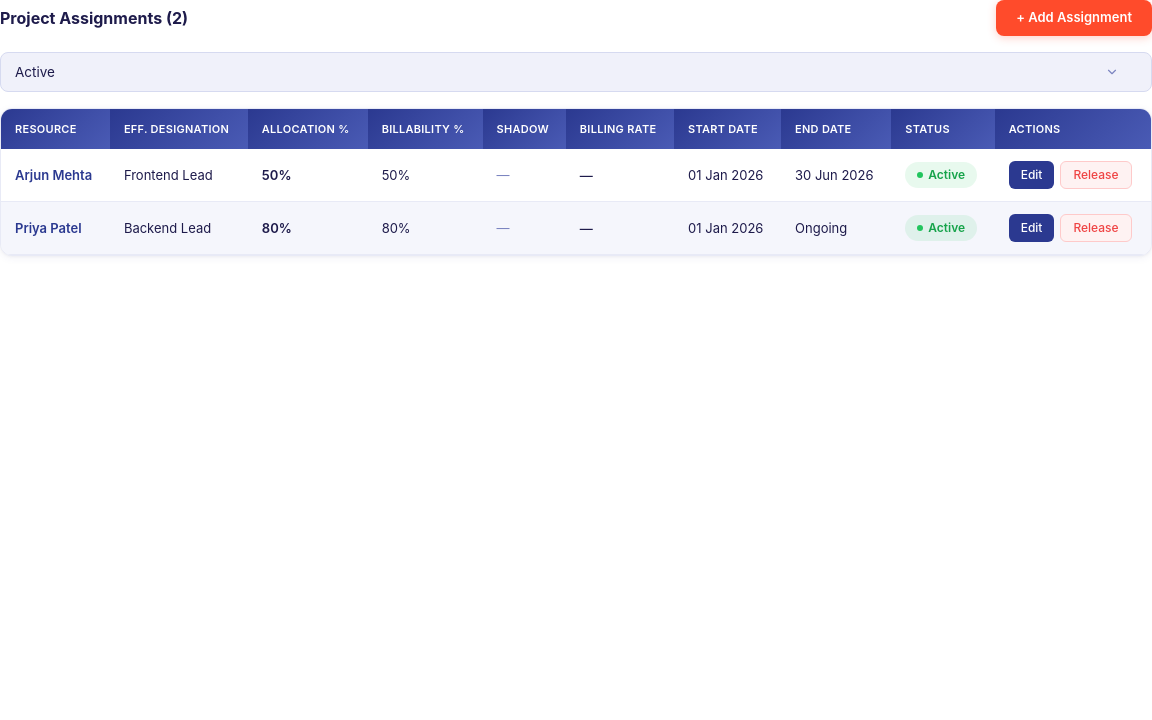
Test: AssignmentList › shows release confirmation dialog on Release click
expect the link "Arjun Mehta" is shown: met, box [15, 166, 92, 182]
Click the button "Release" in the row of "Arjun Mehta". click: (1096, 175)
box: [1060, 161, 1132, 189]
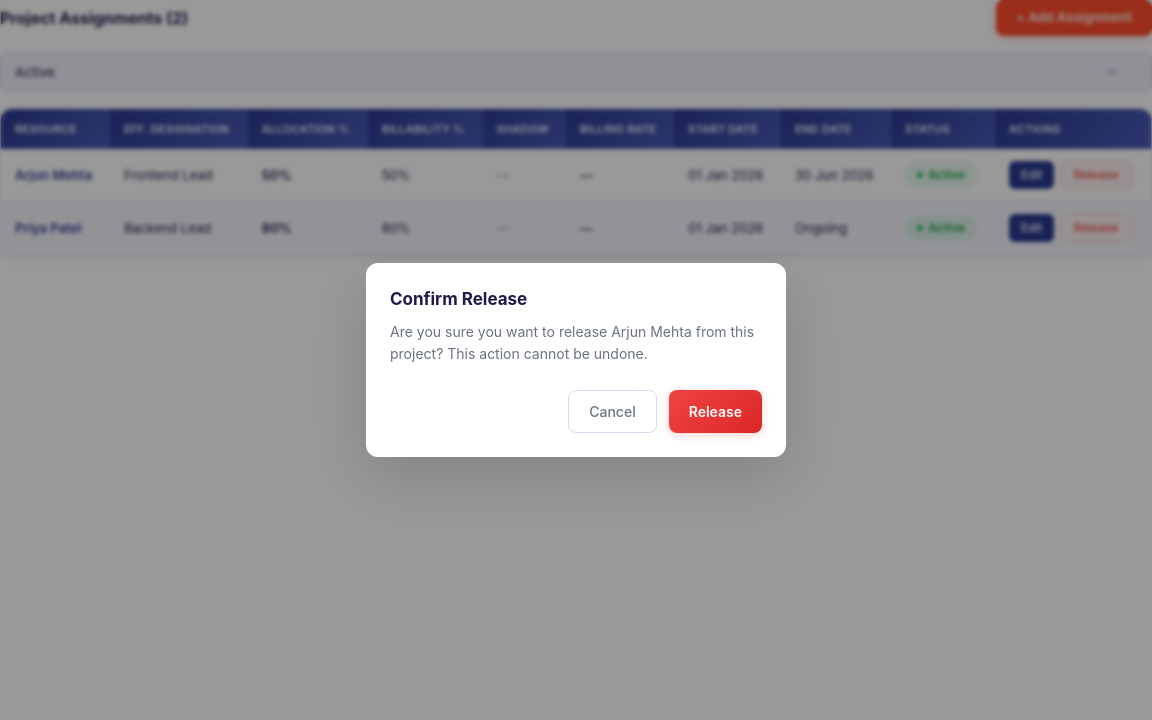
expect the text "Are you sure you want to release Arjun Mehta" is shown: met, box [390, 322, 754, 362]
